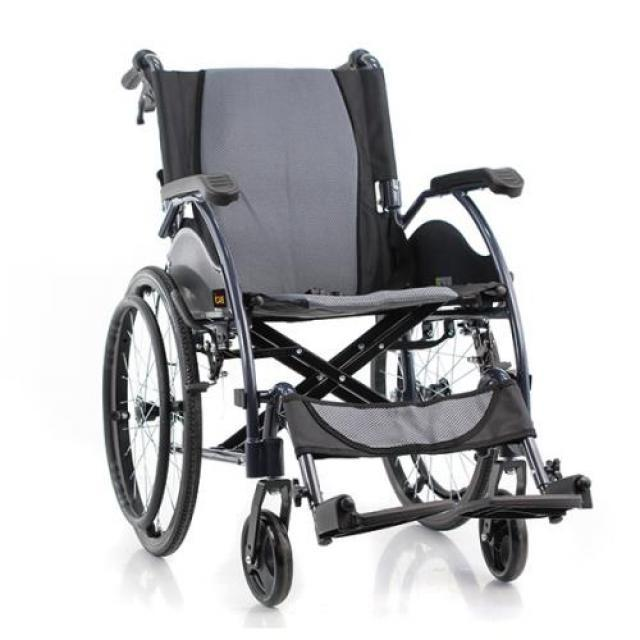wheelchair: (36, 32, 616, 612)
